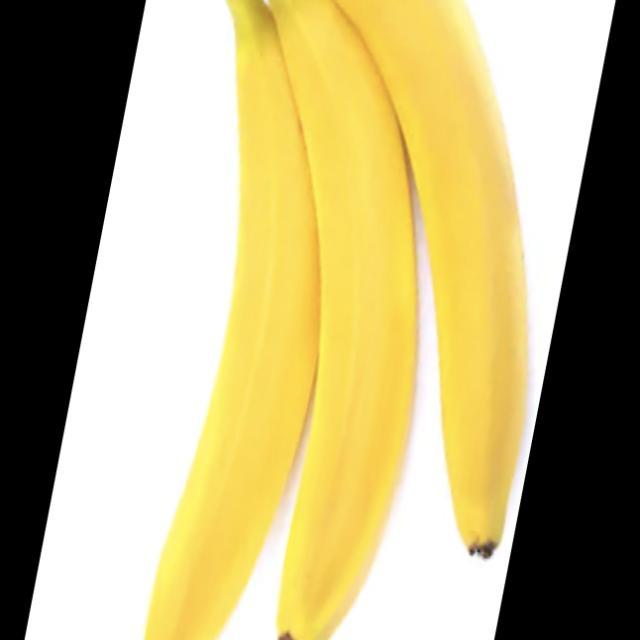Banana: (139, 0, 529, 639)
